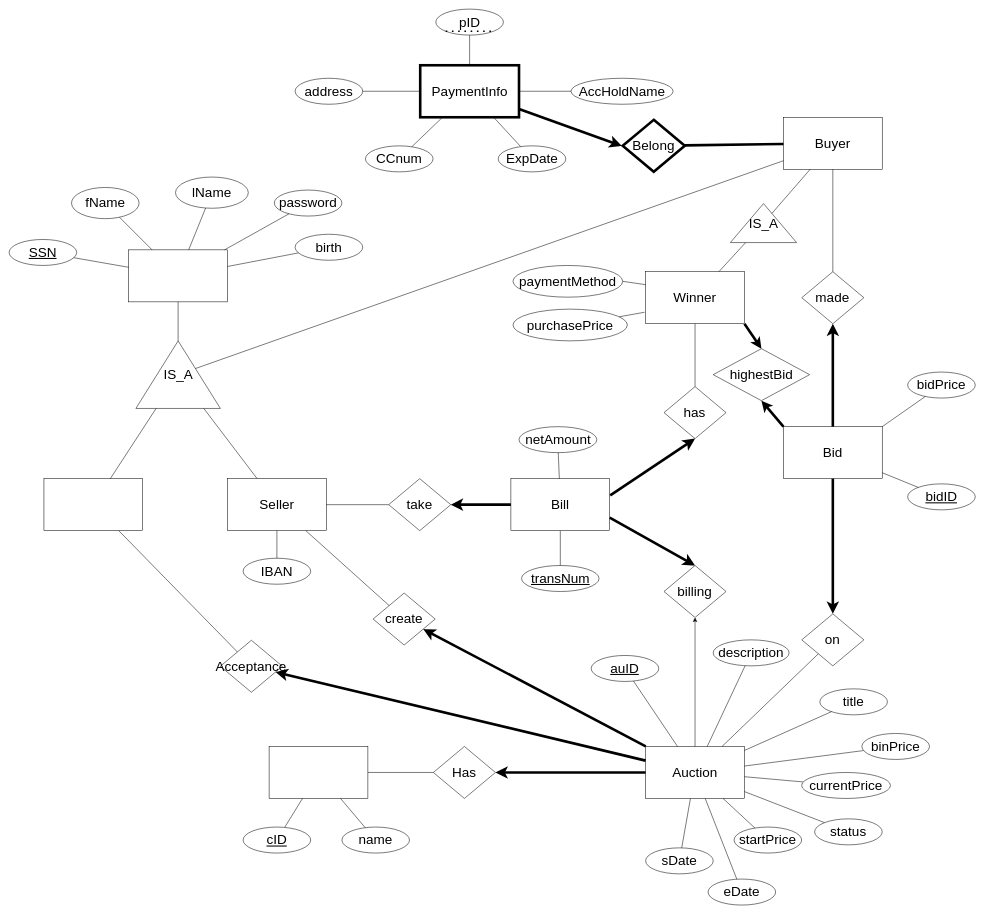
The diagram is 984 pixels wide and 924 high, and some of its shapes have lost their labels. Each missing label, with the centre of its shape:
"Admin" belongs at point (93, 504).
"Category" belongs at point (318, 772).
"USER" belongs at point (178, 275).
